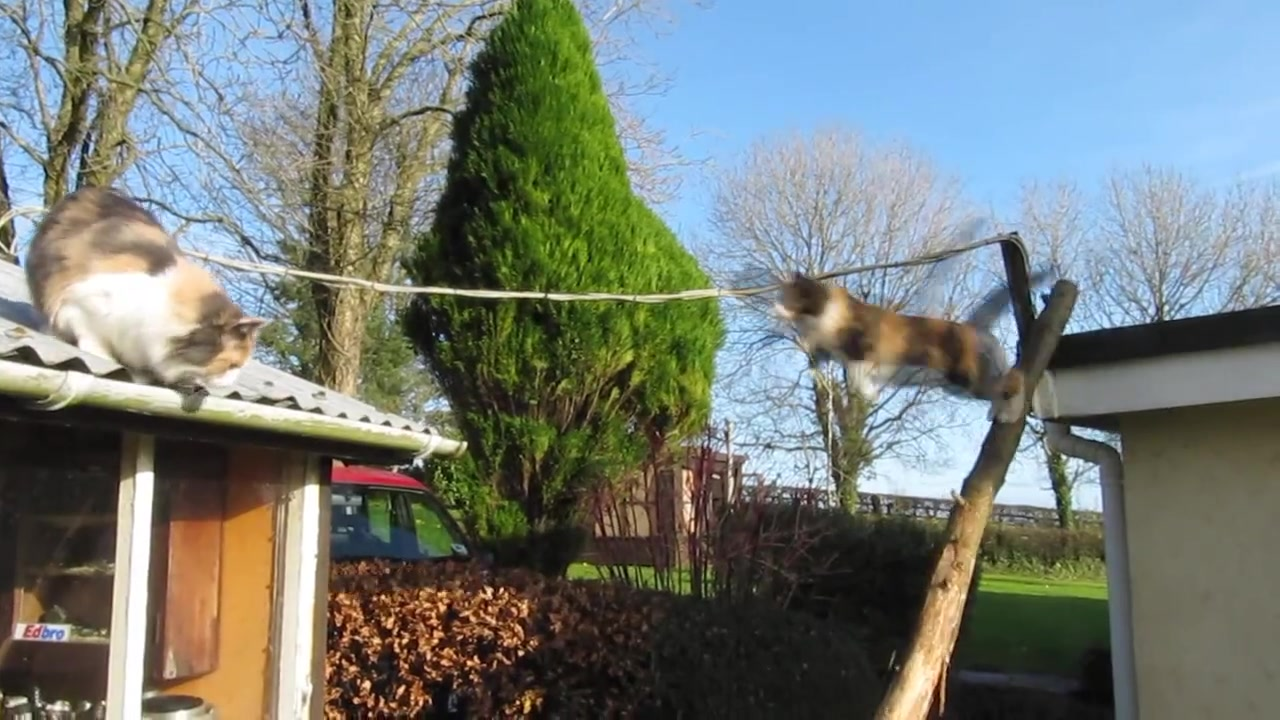cat: (767, 259, 1061, 426)
